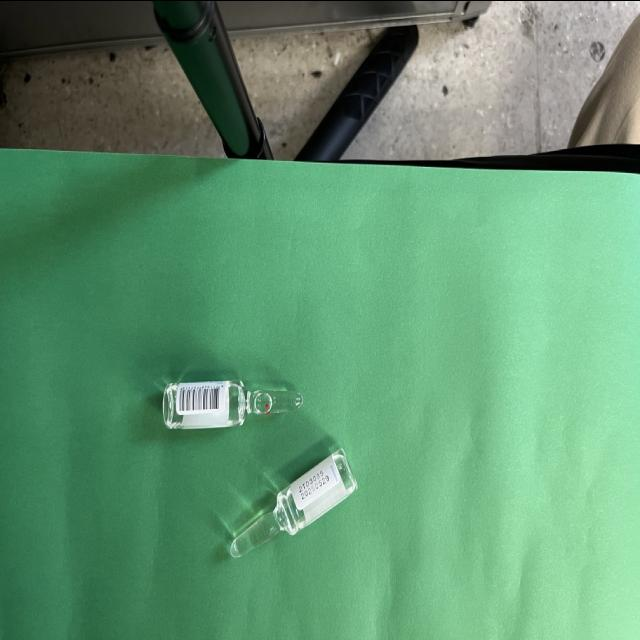Ampoules: (228, 447, 357, 556), (162, 380, 303, 427)
